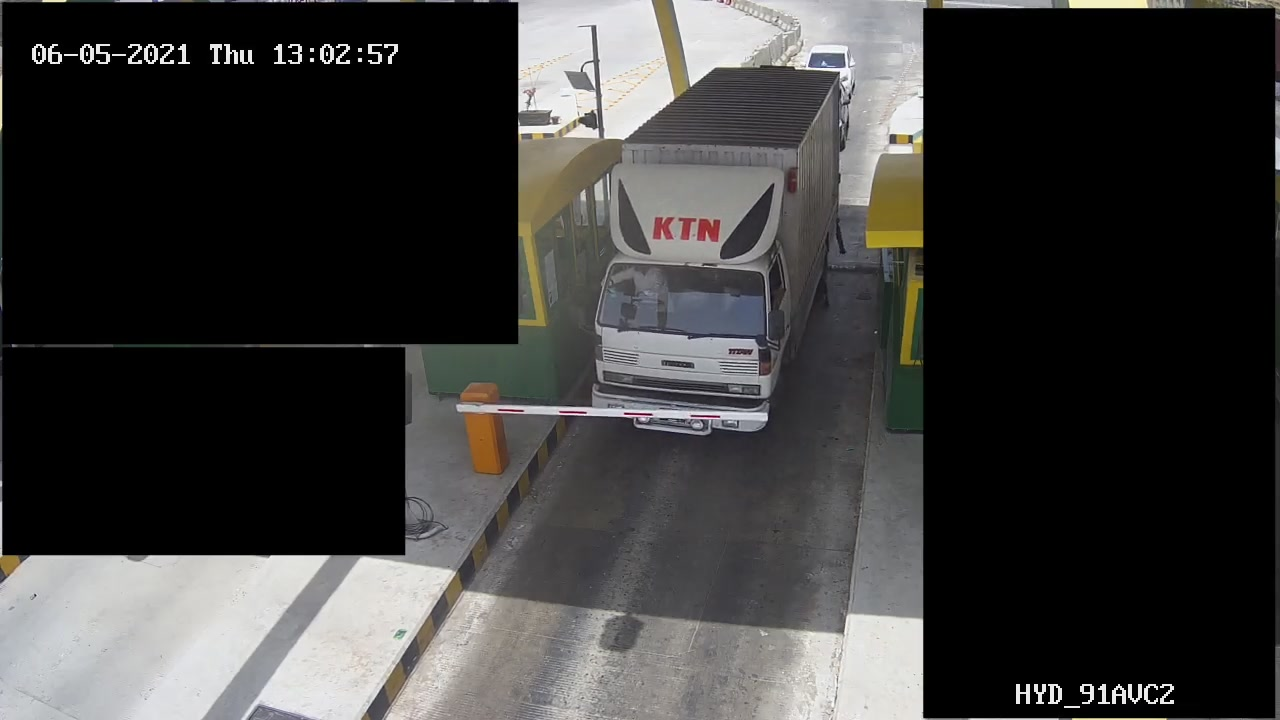F5: (596, 62, 836, 438)
